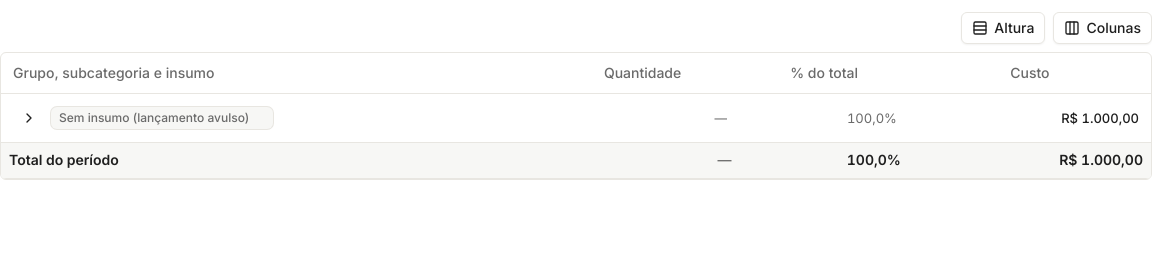
CustoGrupoTabela — Sem insumo por categoria › a linha Sem insumo abre pelas categorias financeiras, sem link que não fecharia
Expected: the text "Folha de pagamento" is not shown
Click the button named "Abrir Sem insumo (lançamento avulso)": (29, 118) x1=13 y1=102 x2=45 y2=134
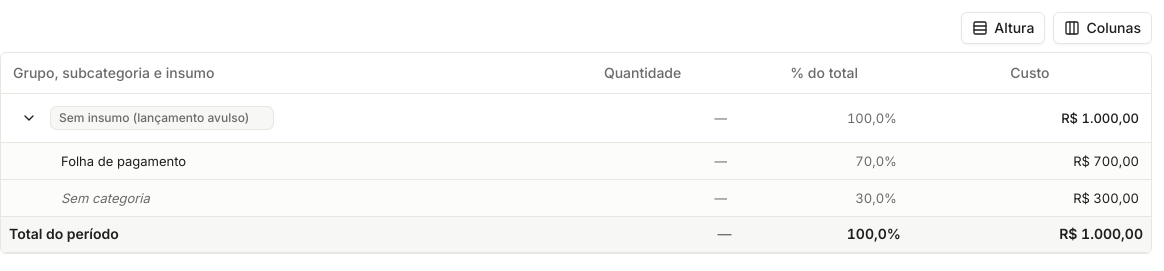
Result: the text "Sem categoria" is shown at x1=61 y1=190 x2=150 y2=206
